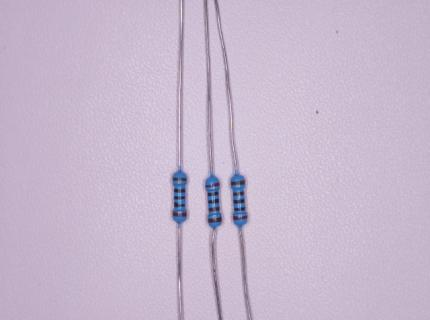Black band: (208, 198, 219, 204), (174, 202, 185, 207), (234, 207, 246, 211), (234, 199, 245, 203), (208, 192, 218, 196), (174, 196, 185, 199), (174, 189, 185, 192)
Brown band: (208, 217, 221, 223), (231, 180, 245, 185), (172, 177, 187, 181), (234, 191, 244, 196), (209, 207, 220, 211)
Red band: (173, 212, 187, 217), (206, 183, 220, 187), (233, 216, 247, 220)
